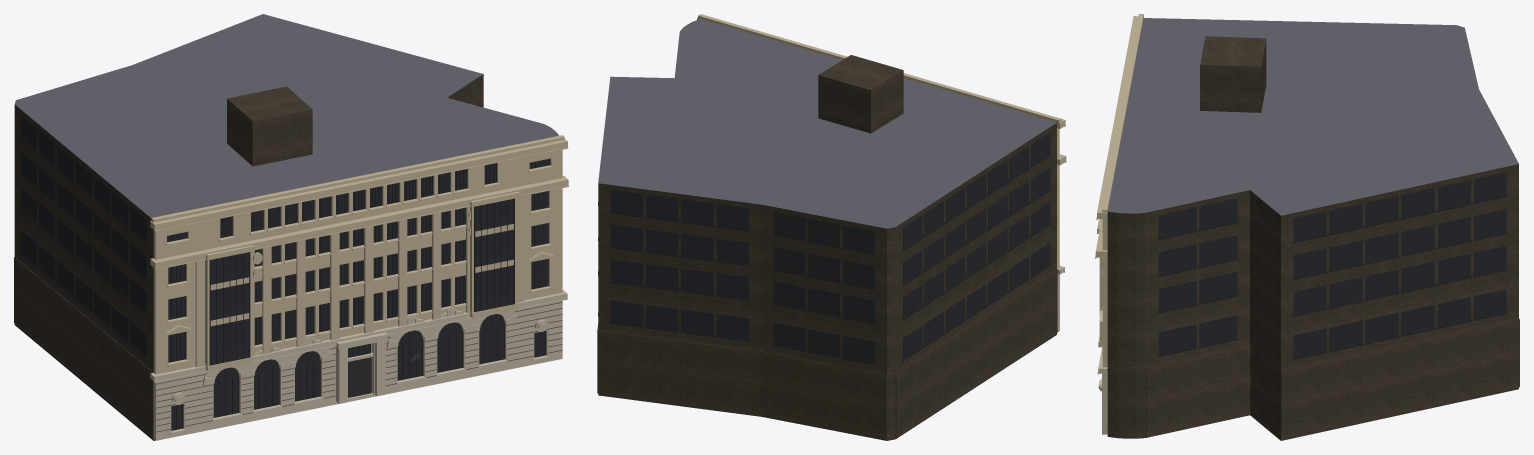
The model's file is barclay_hero3_floors.glb.
The picture shows the model from 3 angles, left to right: view 1: azimuth 30°, elevation 25°; view 2: azimuth 150°, elevation 25°; view 3: azimuth 270°, elevation 25°; orthographic projection. The views are drawn at different scales.
Parts seen in each view (by area): view 1: Floor_05, Floor_01, Floor_02, Floor_03, Floor_04, Floor_00, Door_entrance_frame; view 2: Floor_05, Floor_04, Floor_01, Floor_02, Floor_03; view 3: Floor_05, Floor_04, Floor_02, Floor_01, Floor_03.
Boxes of the visible parts, box(x1,y1,x2,y2) form: Floor_05: box(14, 14, 568, 268); Floor_01: box(14, 257, 567, 440); Floor_02: box(14, 76, 566, 440); Floor_03: box(19, 168, 562, 374); Floor_04: box(14, 74, 568, 440); Floor_00: box(156, 355, 562, 440); Door_entrance_frame: box(274, 335, 452, 412); Floor_05: box(598, 14, 1065, 254); Floor_04: box(598, 123, 1066, 438); Floor_01: box(597, 267, 1064, 438); Floor_02: box(597, 123, 1064, 440); Floor_03: box(598, 135, 1059, 324); Floor_05: box(1095, 14, 1518, 257); Floor_04: box(1095, 164, 1518, 440); Floor_02: box(1098, 164, 1519, 440); Floor_01: box(1097, 319, 1519, 438); Floor_03: box(1099, 219, 1507, 367).
Size of the model in its own units: 38.64 by 24.43 by 34.67.
4 materials, 4 textured.
